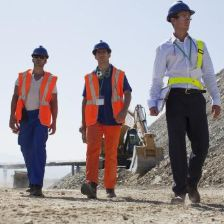helmet: (165, 1, 196, 36), (91, 38, 115, 67), (28, 43, 52, 70)
